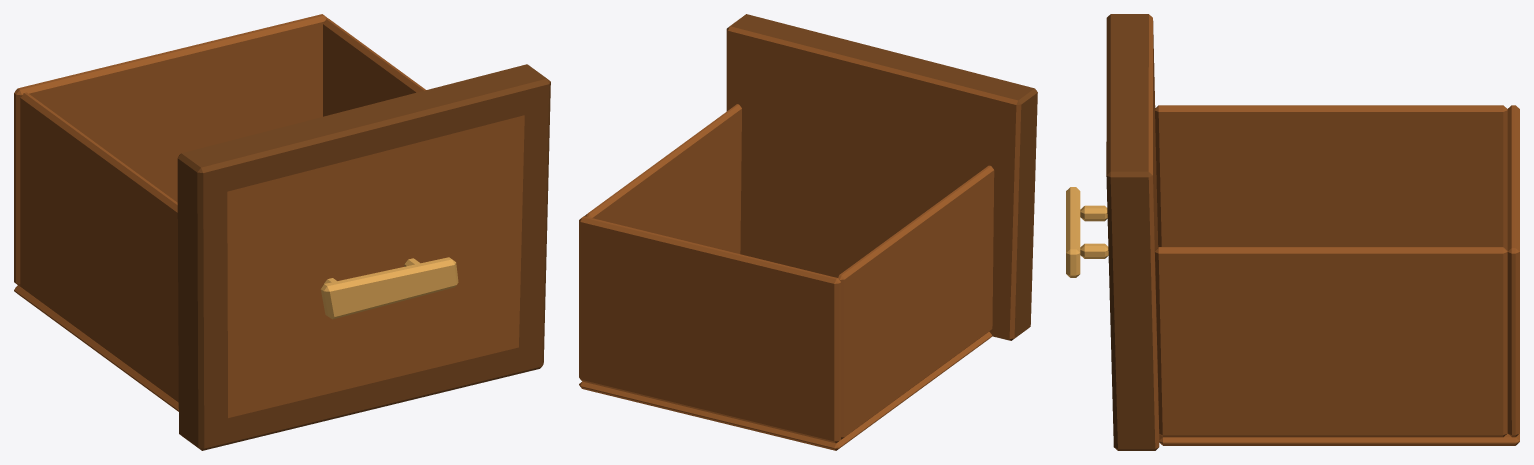
The model's file is Rack_4.fbx.
3 renders of one model, left to right at view 1: azimuth 30°, elevation 25°; view 2: azimuth 150°, elevation 25°; view 3: azimuth 270°, elevation 25°, orthographic. The views are drawn at different scales.
Parts seen in each view (by area): view 1: Rack_4; view 2: Rack_4; view 3: Rack_4.
Boxes of the visible parts, x1,y1,x2,y2 form: Rack_4: (14,14,550,450); Rack_4: (579,14,1037,450); Rack_4: (1066,14,1519,450).
Bounding box in the file's own units: 0.3982 × 0.3146 × 0.4606.
